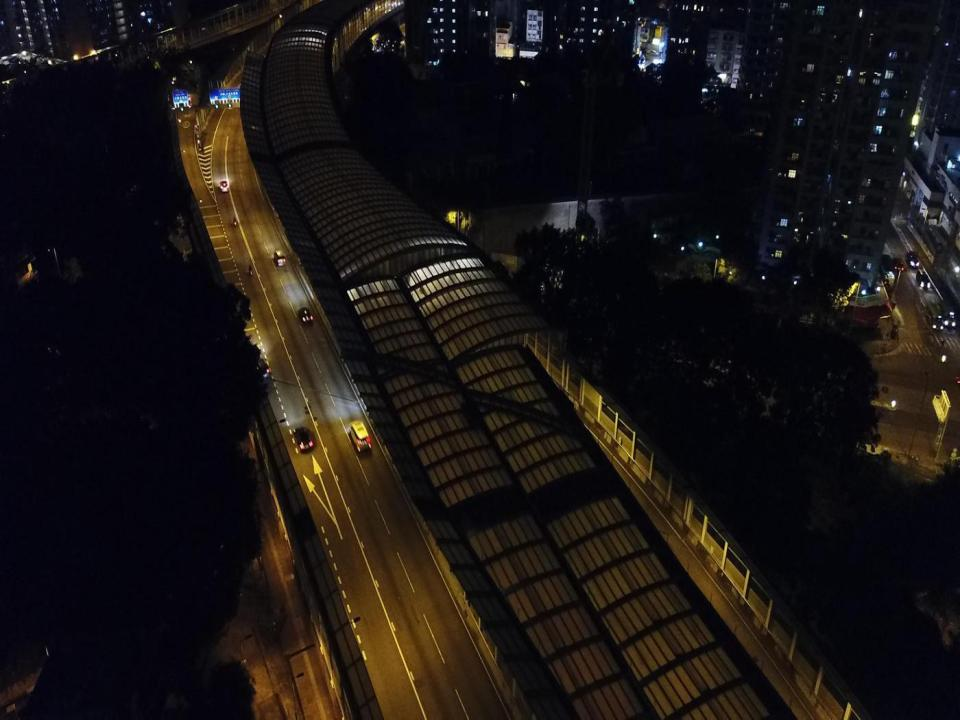bus: (938, 298, 956, 328), (925, 302, 944, 330)
car: (348, 419, 373, 452), (294, 427, 314, 451), (298, 306, 314, 324), (905, 250, 920, 268), (274, 249, 286, 266), (892, 257, 904, 270), (219, 179, 229, 193)
van: (916, 268, 931, 288)
